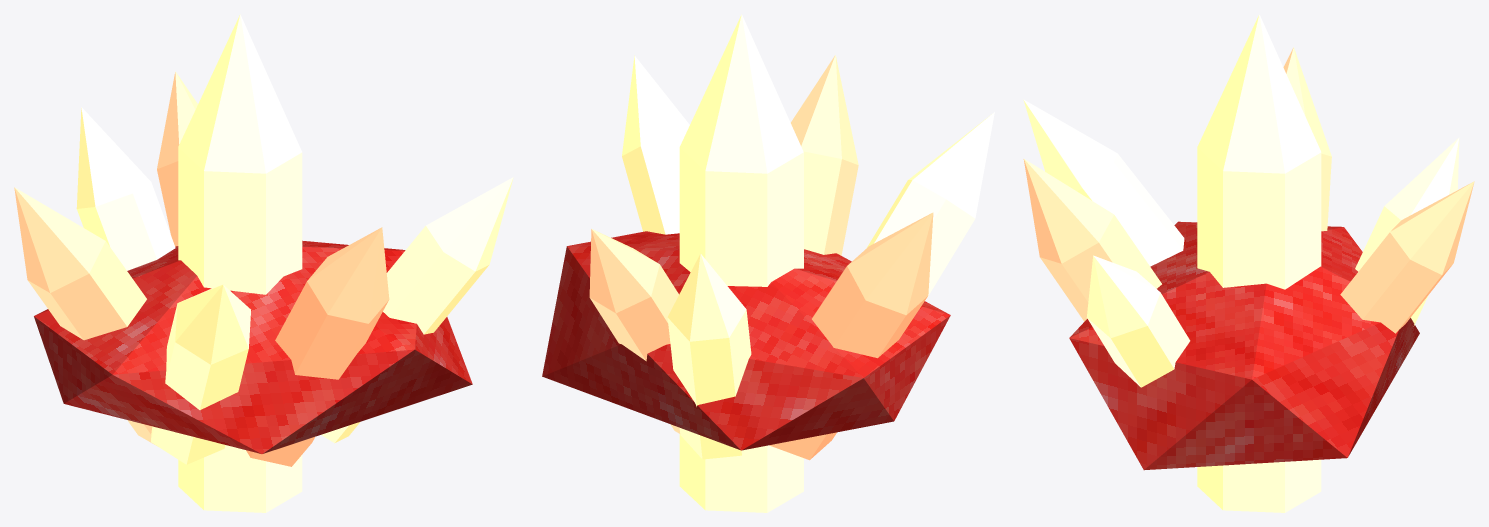
Rendered from ruins_crystals.glb.
3 renders of one model, left to right at view 1: azimuth 30°, elevation 25°; view 2: azimuth 150°, elevation 25°; view 3: azimuth 270°, elevation 25°, orthographic.
Parts seen in each view (by area): view 1: Crystals, Base; view 2: Crystals, Base; view 3: Crystals, Base.
Part boxes in pixels (box(x1,y1,x2,y2)): Crystals: box(14, 14, 513, 512); Base: box(34, 240, 472, 453); Crystals: box(589, 14, 994, 512); Base: box(542, 231, 950, 450); Crystals: box(1023, 14, 1474, 512); Base: box(1069, 221, 1419, 470).
Size of the model in its own units: 1.48 by 1.68 by 1.45.
3 materials, 1 textured.
